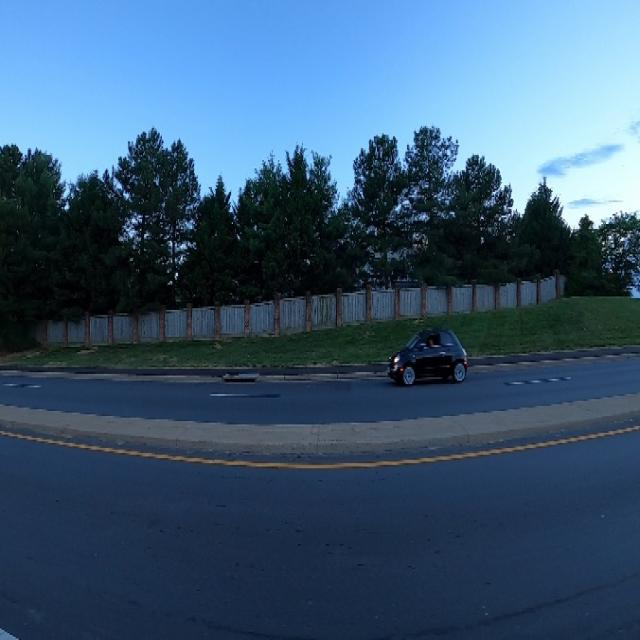cars: (384, 318, 471, 392)
